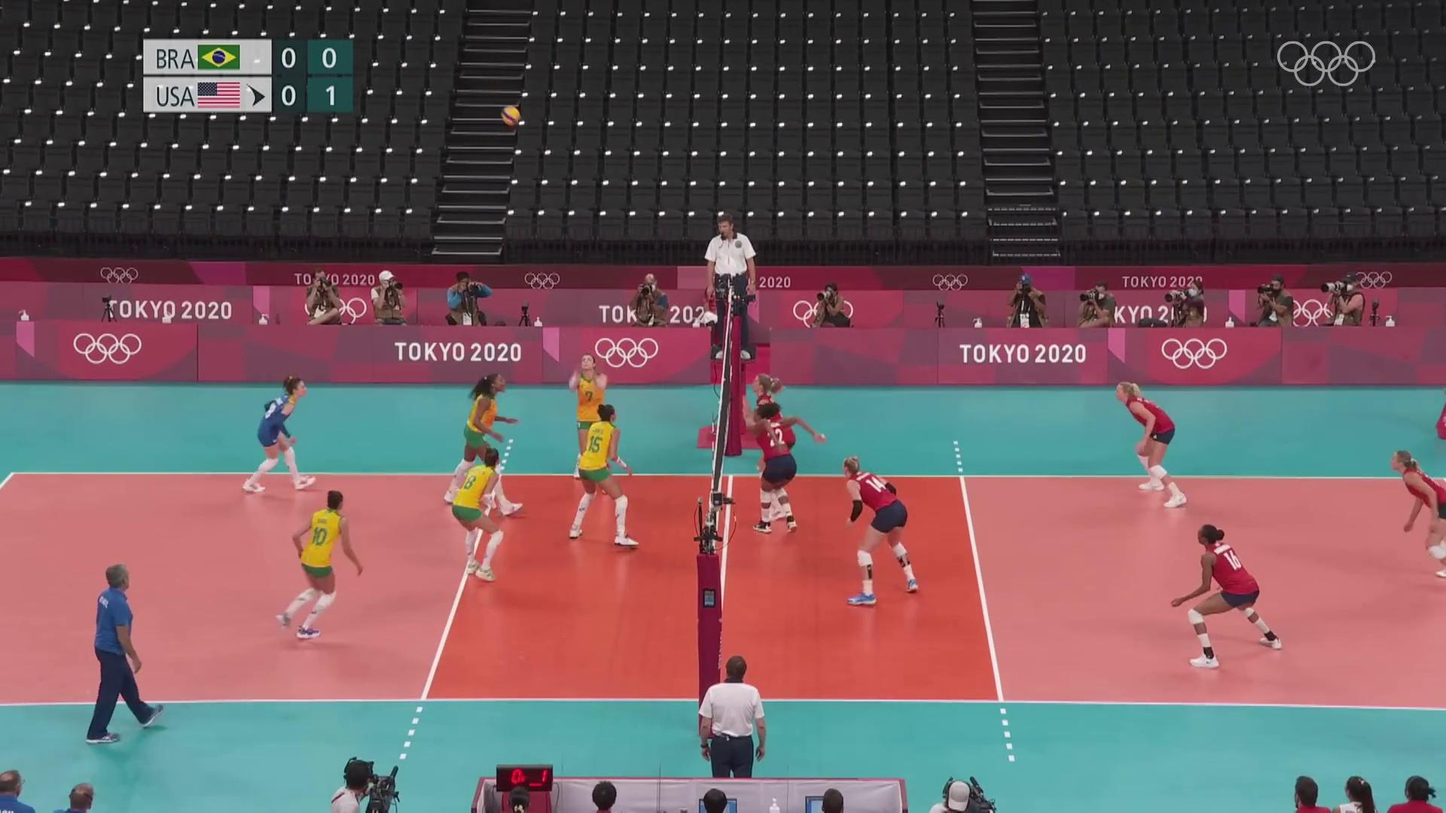player: (1170, 521, 1284, 667), (276, 491, 363, 642), (842, 457, 920, 603), (748, 402, 824, 535), (447, 373, 520, 511), (572, 407, 638, 549), (1115, 384, 1191, 505), (243, 378, 313, 494), (450, 449, 510, 581), (1391, 447, 1446, 582), (750, 372, 797, 521), (567, 353, 612, 493)
refree: (700, 654, 769, 789), (706, 214, 760, 361)
